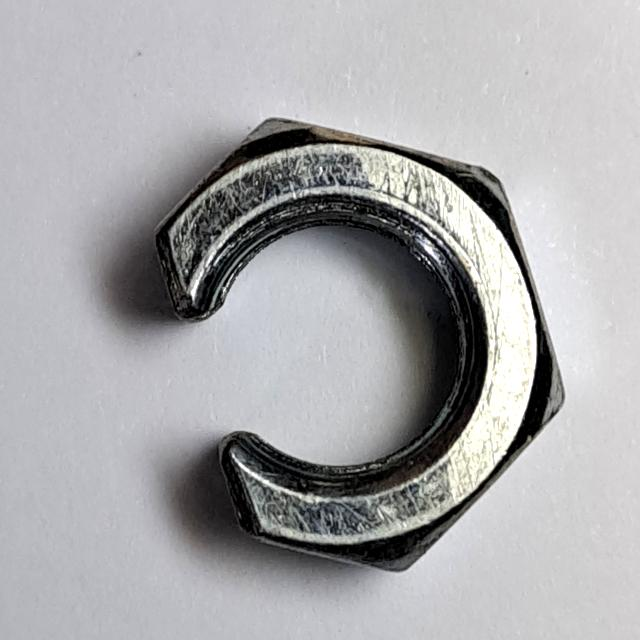Fracture: (130, 96, 581, 593)
